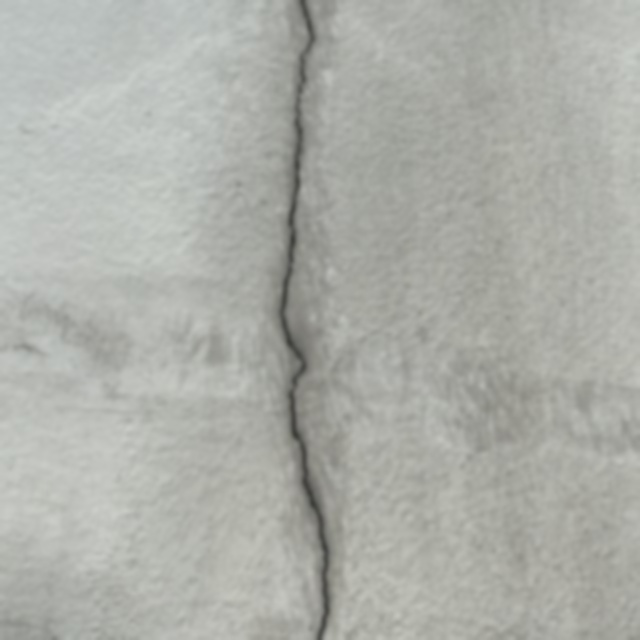SurfaceCrack: (236, 0, 374, 640)
